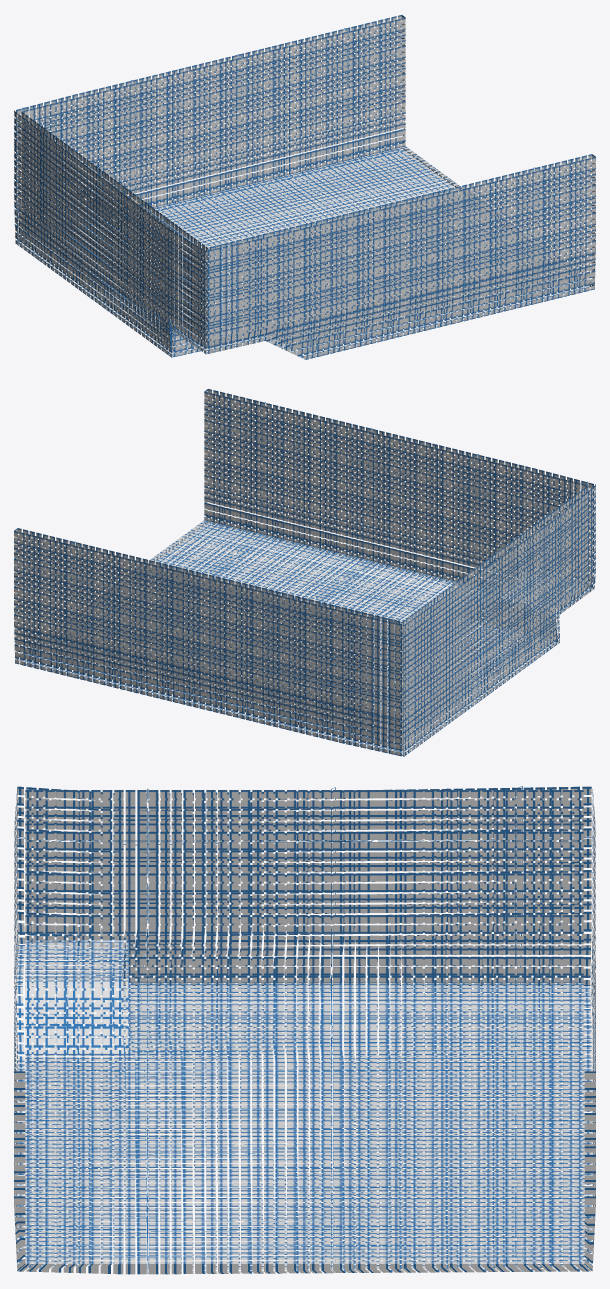
The model's file is Loca1.fbx.
3 renders of one model, top to bottom at view 1: azimuth 30°, elevation 25°; view 2: azimuth 150°, elevation 25°; view 3: azimuth 270°, elevation 25°, orthographic. The views are drawn at different scales.
Visible parts, largest first — view 1: Plane; view 2: Plane; view 3: Plane.
Boxes of the visible parts, x1,y1,x2,y2 form: Plane: (14, 15, 595, 359); Plane: (14, 389, 595, 756); Plane: (14, 786, 595, 1274).
Size of the model in its own units: 2834 by 948 by 2448.
